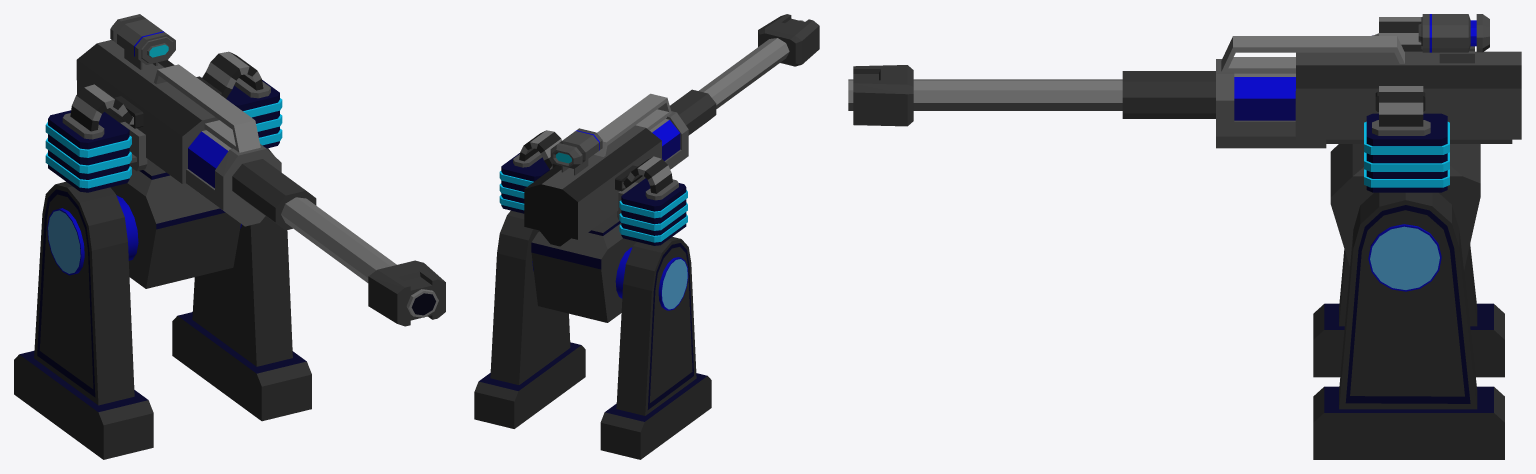
Rendered from Laser.FBX.
3 renders of one model, left to right at view 1: azimuth 30°, elevation 25°; view 2: azimuth 150°, elevation 25°; view 3: azimuth 270°, elevation 25°, orthographic. The views are drawn at different scales.
Visible parts, largest first — view 1: Base, Head; view 2: Base, Head; view 3: Head, Base.
Boxes of the visible parts, left/top/right/bottom form: Base: left=14, top=148, right=311, bottom=459; Head: left=45, top=14, right=445, bottom=326; Base: left=474, top=210, right=711, bottom=459; Head: left=499, top=14, right=819, bottom=246; Head: left=848, top=14, right=1521, bottom=192; Base: left=1313, top=144, right=1504, bottom=459.
Bounding box in the file's own units: 225 × 371 × 587.
